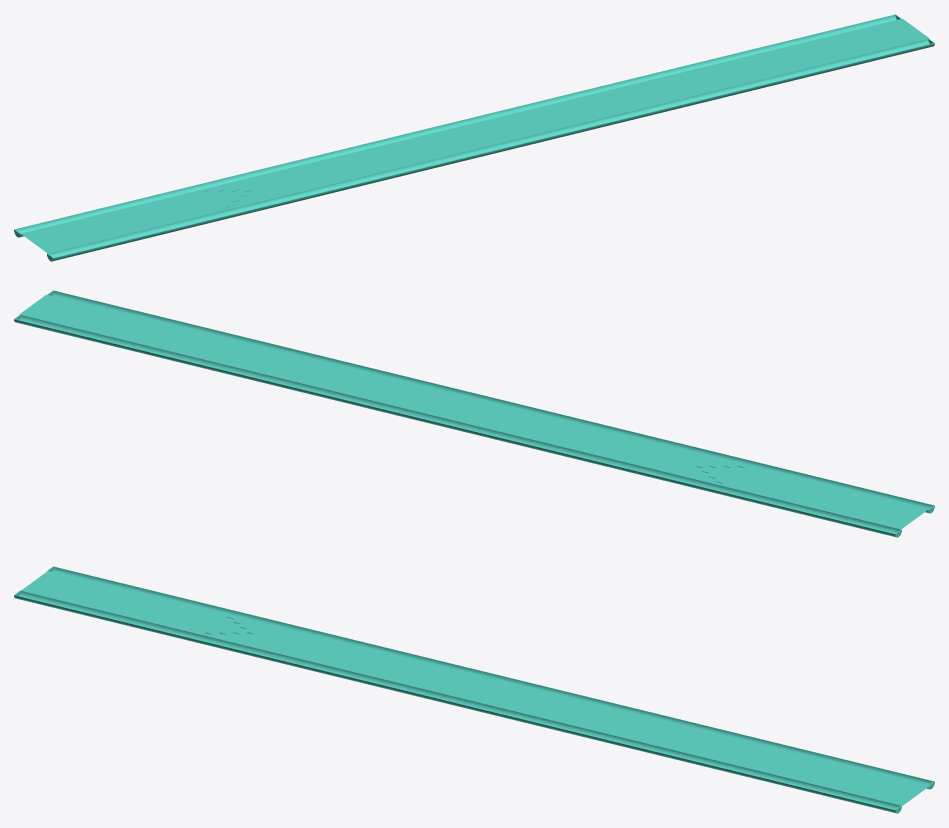
File: SM_BowlingLane.fbx
The picture shows the model from 3 angles, top to bottom: view 1: azimuth 30°, elevation 25°; view 2: azimuth 150°, elevation 25°; view 3: azimuth 330°, elevation 25°; orthographic projection.
Parts seen in each view (by area): view 1: alley_floor001, gutter_left001; view 2: alley_floor001, gutter_left001; view 3: alley_floor001, gutter_left001.
Boxes of the visible parts, x1,y1,x2,y2 form: alley_floor001: (21,18,929,253); gutter_left001: (14,14,934,261); alley_floor001: (19,294,927,529); gutter_left001: (14,290,934,537); alley_floor001: (21,571,929,805); gutter_left001: (14,566,934,813).
Size of the model in its own units: 149 by 1918 by 11.6.
